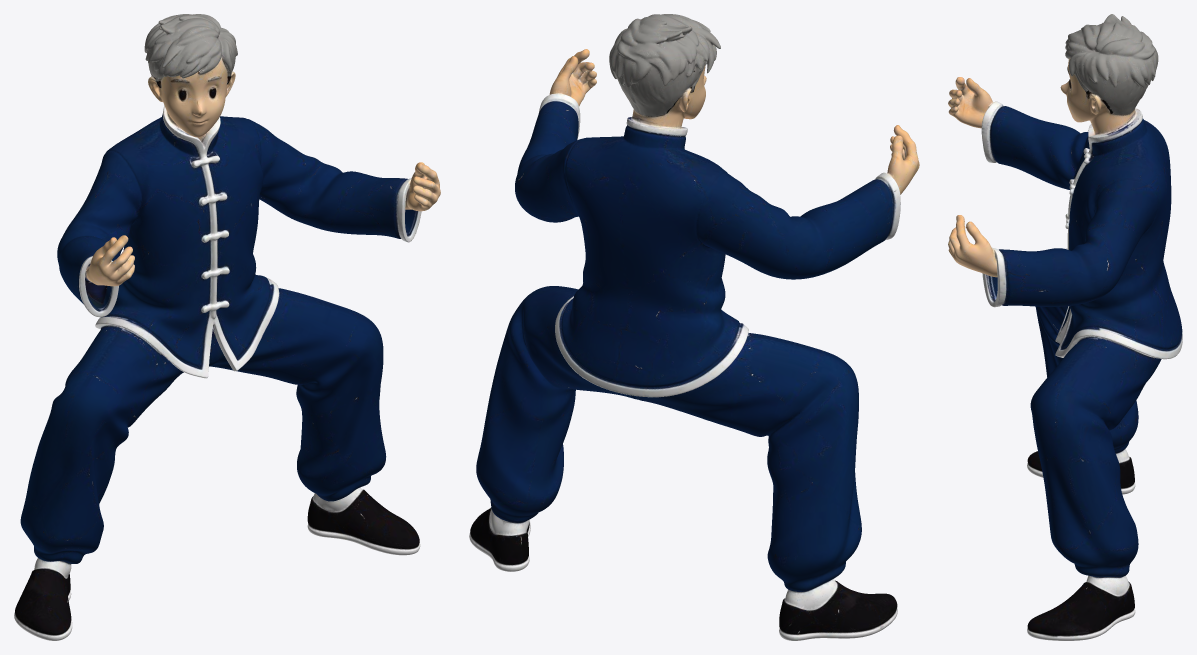
Rendered from blue-clad.glb.
The picture shows the model from 3 angles, left to right: view 1: azimuth 30°, elevation 25°; view 2: azimuth 150°, elevation 25°; view 3: azimuth 270°, elevation 25°; orthographic projection. The views are drawn at different scales.
Visible parts, largest first — view 1: Meshy_AI_Blue_Clad_Martial_Art_0528191449_texture.obj; view 2: Meshy_AI_Blue_Clad_Martial_Art_0528191449_texture.obj; view 3: Meshy_AI_Blue_Clad_Martial_Art_0528191449_texture.obj.
Boxes of the visible parts, x1,y1,x2,y2 form: Meshy_AI_Blue_Clad_Martial_Art_0528191449_texture.obj: [14, 14, 440, 640]; Meshy_AI_Blue_Clad_Martial_Art_0528191449_texture.obj: [469, 14, 919, 640]; Meshy_AI_Blue_Clad_Martial_Art_0528191449_texture.obj: [948, 14, 1182, 640].
Bounding box in the file's own units: 0.3508 × 0.4747 × 0.1922.
1 material, 1 textured.
